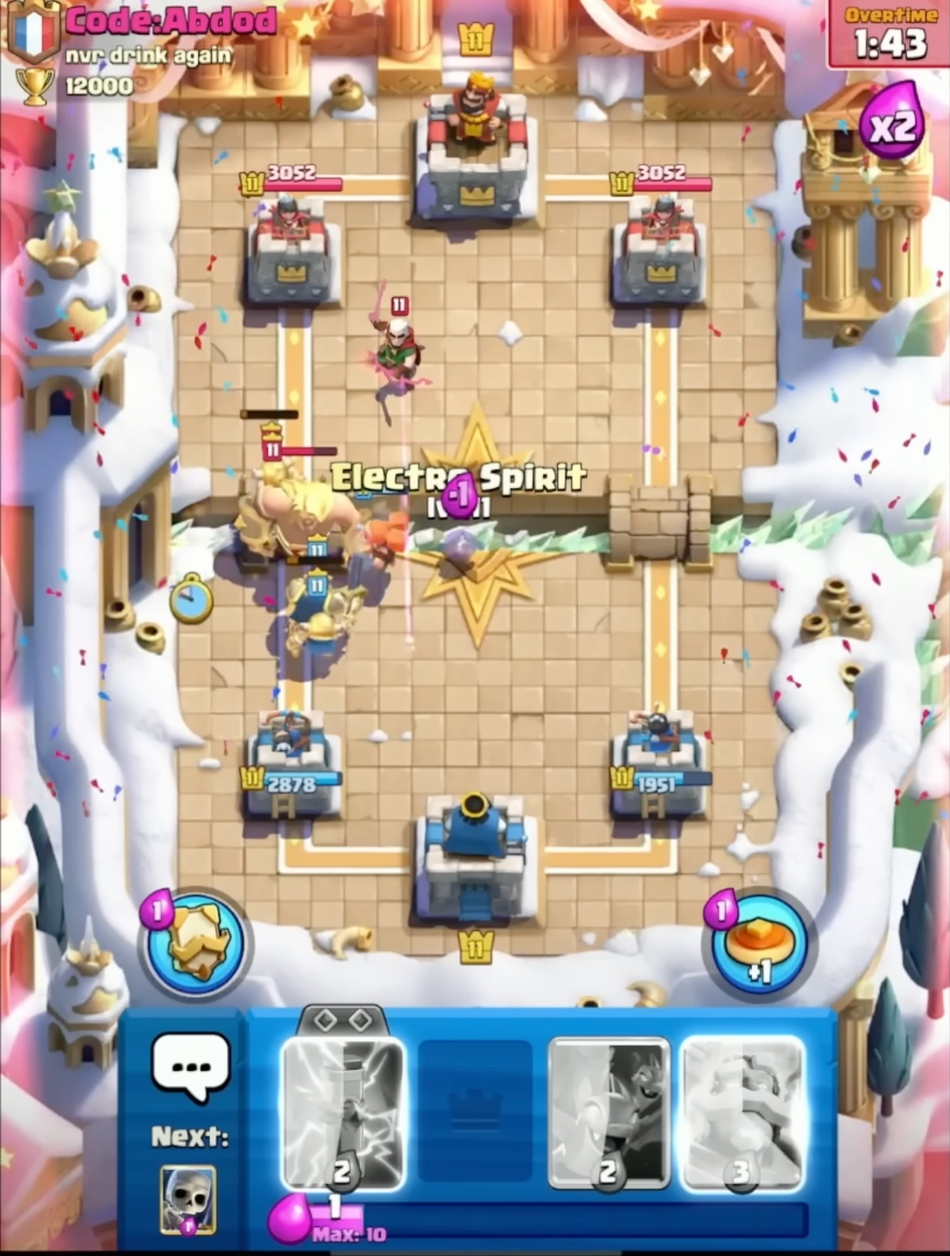hero-giant: (233, 439, 368, 576)
hero-mini-pekka: (231, 397, 313, 503)
magic-archer: (359, 282, 433, 412)
